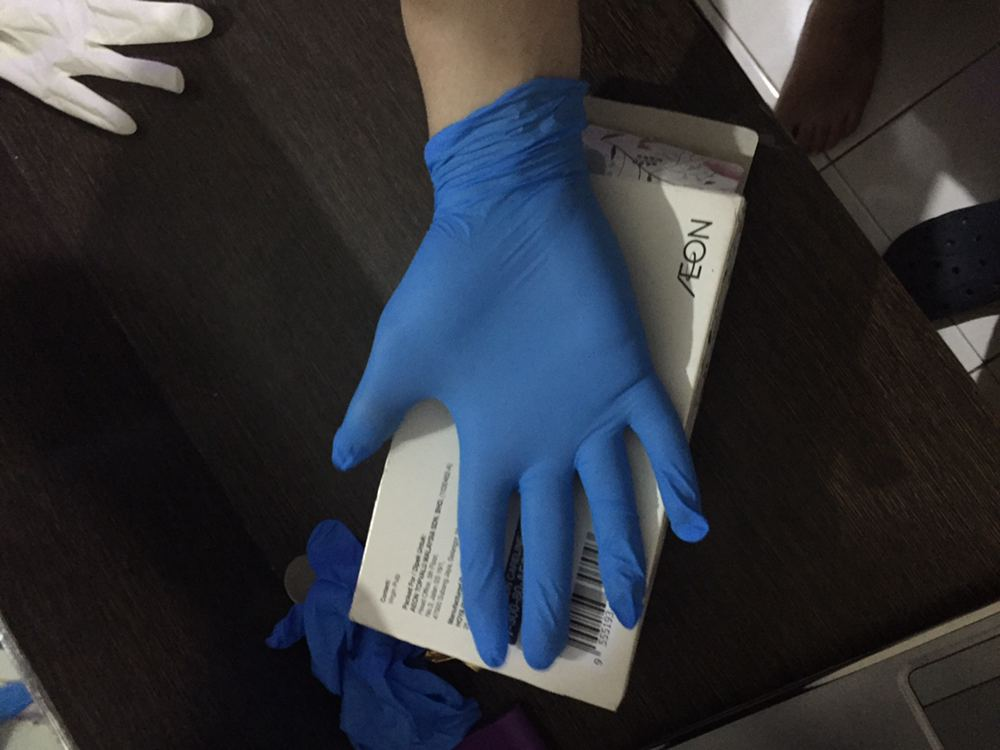glove: (288, 164, 799, 681)
